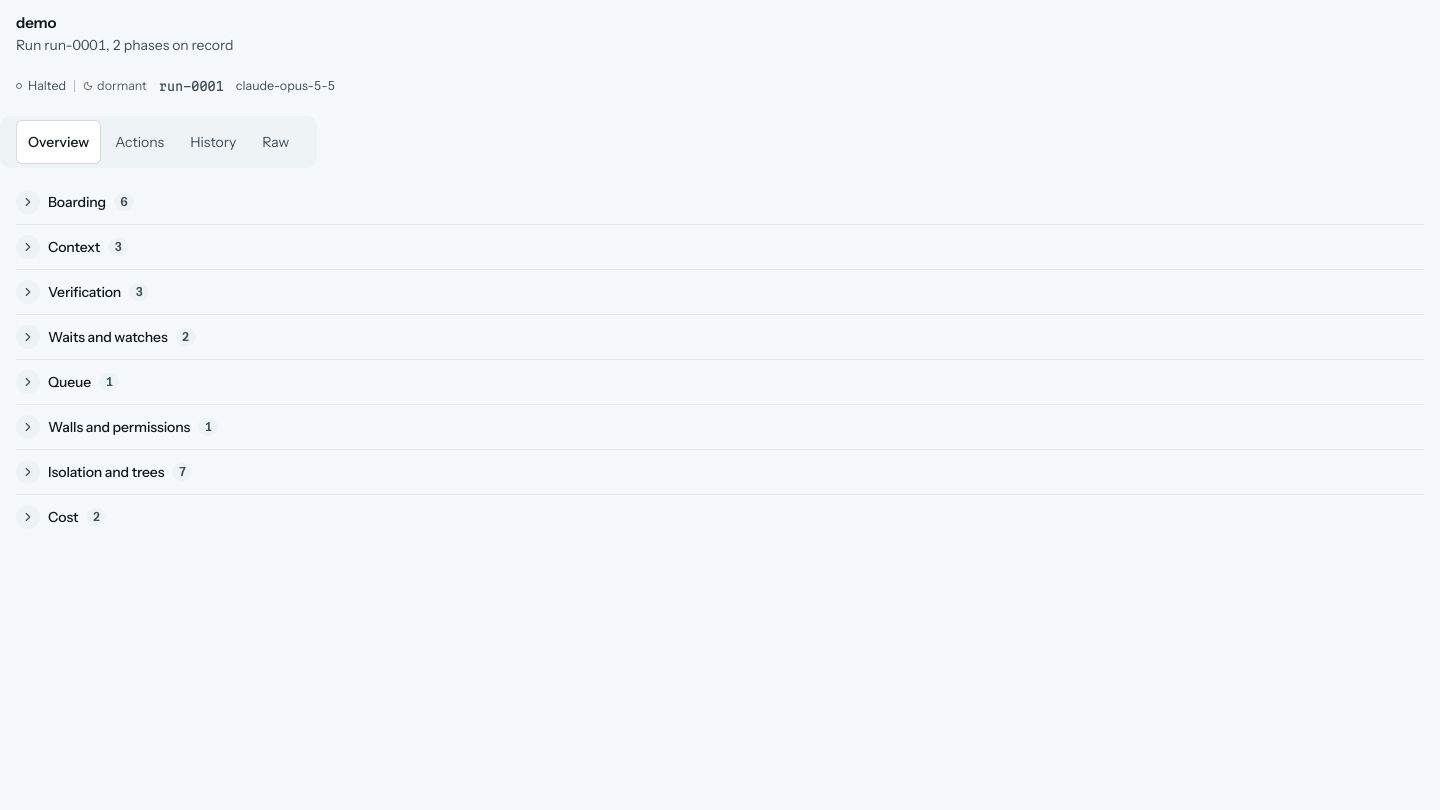
Test: the run in the panel › Actions is the run’s own tab: the six, then every other verb
The width and height of the screenshot is (1440, 810).
Click the tab "Actions" at (140, 142), box left=103, top=120, right=176, bottom=164
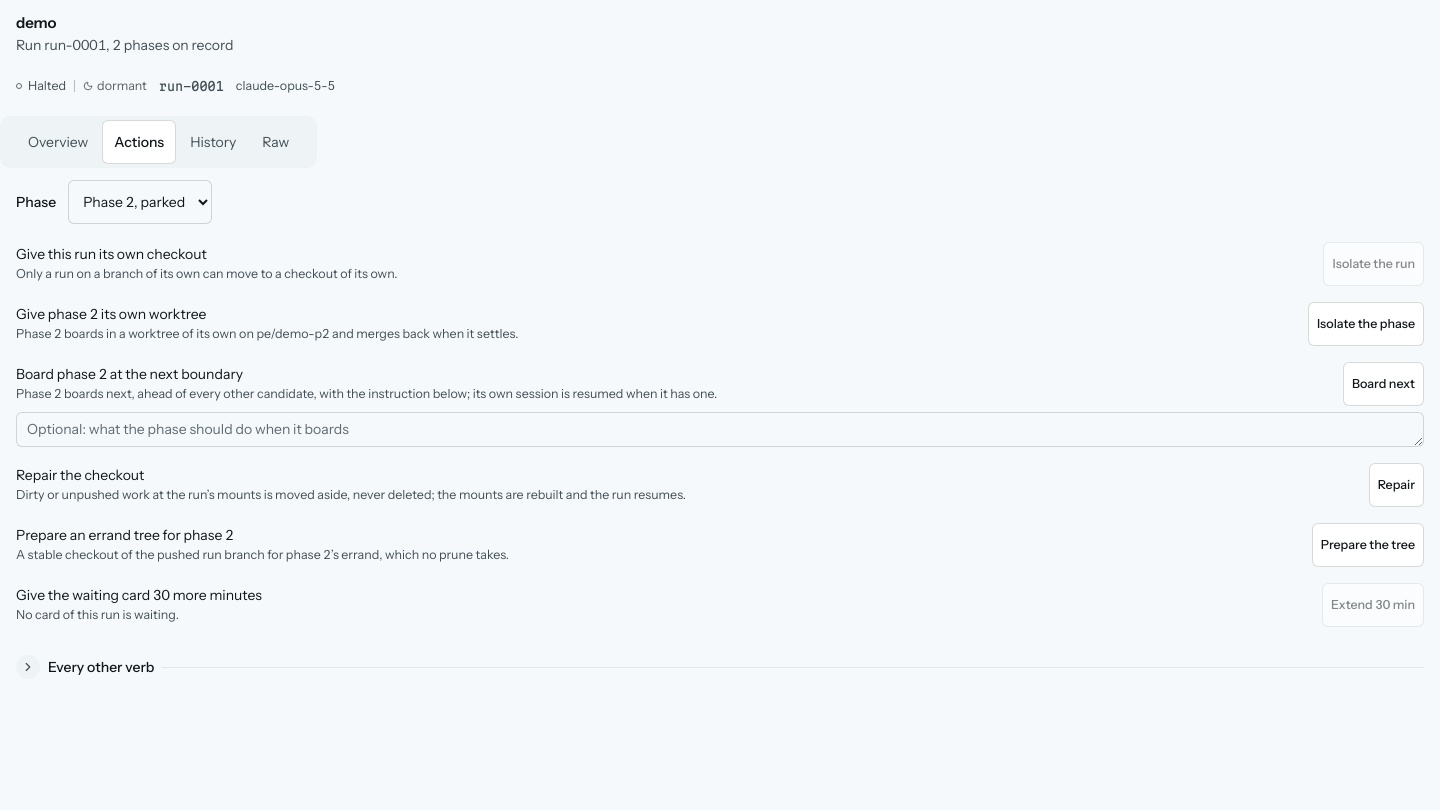
Check: the element with test id "run-actions" is shown
Check: the button with test id "run-actions-other" reads "Every other verb", box left=16, top=645, right=1424, bottom=689
